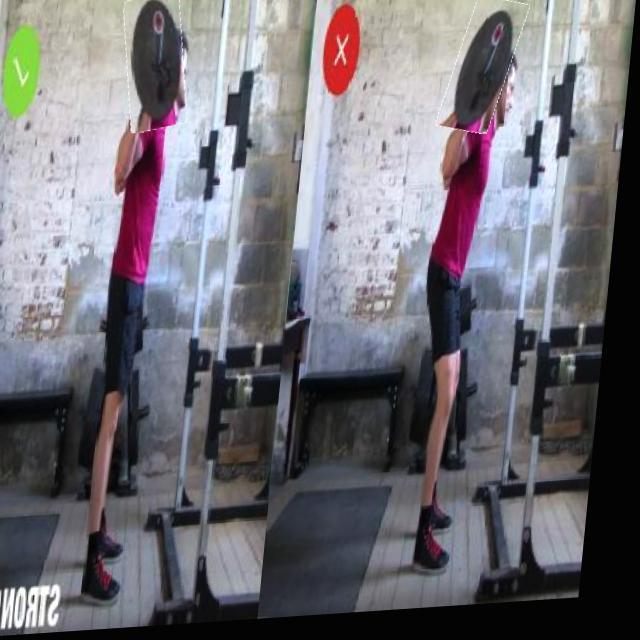barbell: (445, 3, 525, 142), (120, 1, 196, 136)
